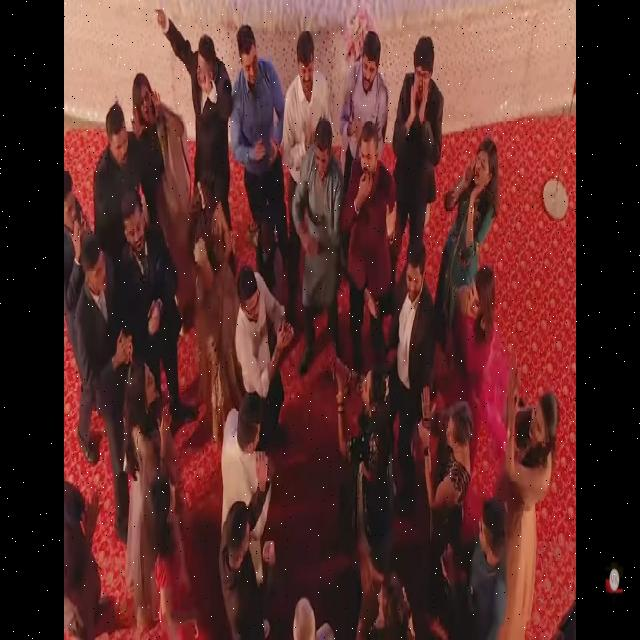humans: (71, 231, 132, 548), (154, 0, 234, 200), (504, 371, 561, 640), (231, 21, 287, 267), (116, 192, 188, 365), (342, 121, 388, 370), (296, 118, 344, 356), (191, 159, 238, 401), (392, 36, 443, 242), (336, 360, 396, 533), (137, 469, 197, 636), (438, 131, 501, 290), (440, 490, 506, 640), (233, 256, 290, 421), (63, 474, 119, 640), (386, 223, 432, 422), (220, 386, 272, 546), (131, 66, 185, 216), (441, 268, 498, 402), (286, 23, 327, 193), (122, 359, 179, 481), (214, 498, 264, 634), (420, 392, 472, 519), (92, 102, 144, 221), (352, 563, 420, 640), (61, 162, 85, 348), (343, 32, 383, 134), (288, 591, 338, 640)
